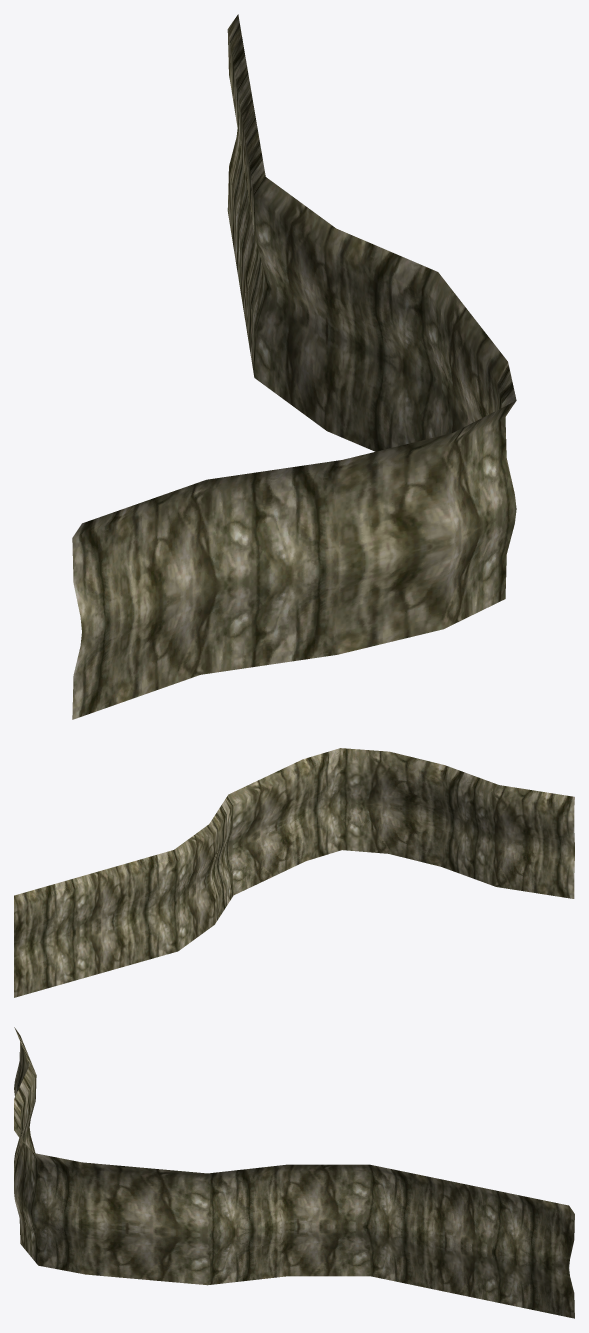
File: CB_NEWPLAYSURFACE_CB_PLAYSURFACE112.fbx
3 renders of one model, top to bottom at view 1: azimuth 30°, elevation 25°; view 2: azimuth 150°, elevation 25°; view 3: azimuth 270°, elevation 25°, orthographic. The views are drawn at different scales.
Parts seen in each view (by area): view 1: CB_NEWPLAYSURFACE_CB_PLAYSURFACE112; view 2: CB_NEWPLAYSURFACE_CB_PLAYSURFACE112; view 3: CB_NEWPLAYSURFACE_CB_PLAYSURFACE112.
Boxes of the visible parts, <box> form: CB_NEWPLAYSURFACE_CB_PLAYSURFACE112: <box>72,14,516,719</box>; CB_NEWPLAYSURFACE_CB_PLAYSURFACE112: <box>14,748,574,997</box>; CB_NEWPLAYSURFACE_CB_PLAYSURFACE112: <box>14,1027,574,1318</box>.
Bounding box in the file's own units: 248103 × 73541 × 325996.
1 material, 1 textured.
